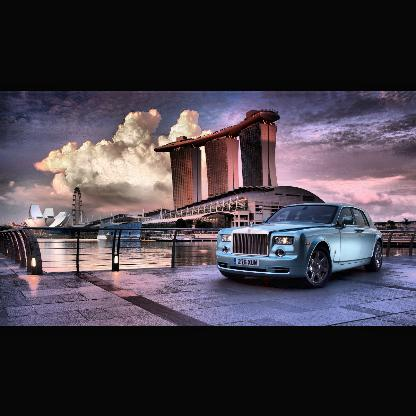Rolls-Royce Phantom Sedan 2012: (215, 203, 386, 290)
